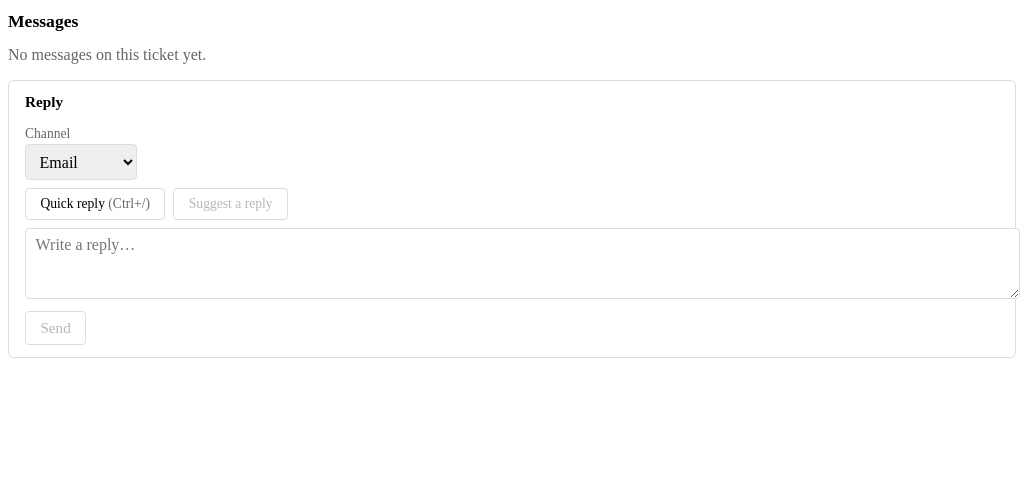
Test: MessagesPanel › surfaces a failed send next to the composer, not just in the thread
The image size is (1036, 486).
Expected: the text "No messages on this ticket yet." is shown, [8, 46, 206, 63]
Step 1. Type "please work" into the text box named "Message body" → x=523, y=263, box [25, 228, 1020, 298]
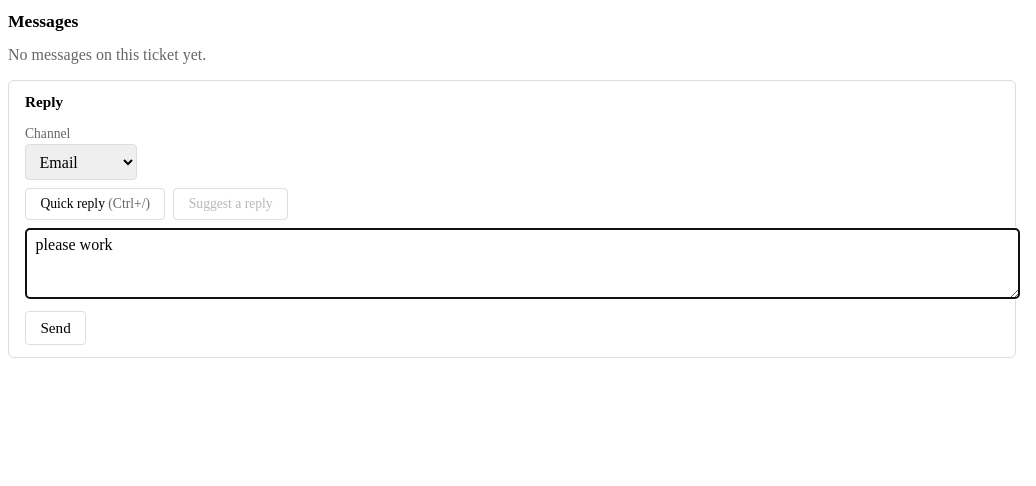
Step 2. Click the button "Send" → x=56, y=328, box [25, 310, 86, 345]
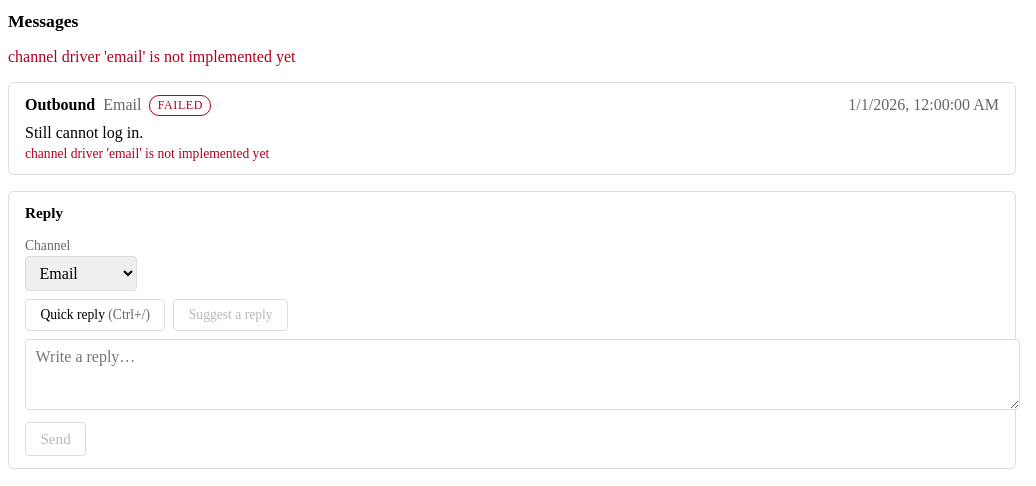
Now the message reads "channel driver 'email' is not implemented yet", box [8, 48, 296, 65]
